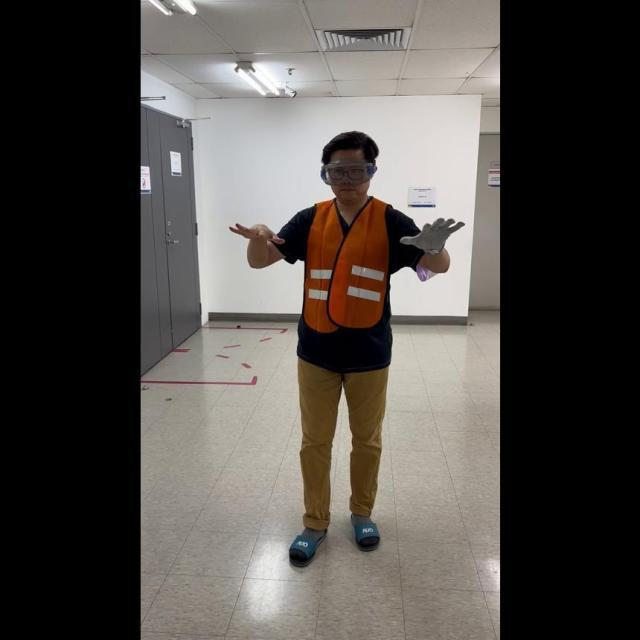bare_hand: (228, 216, 284, 253)
gloved_hand: (398, 215, 462, 255)
